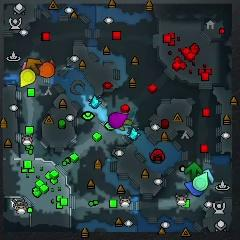p1: (184, 181, 204, 197)
p2: (192, 173, 208, 191)
p3: (109, 112, 127, 128)
p4: (20, 68, 36, 87)
p5: (39, 62, 56, 78)
x1: (21, 60, 27, 70)
x2: (120, 119, 133, 130)
x3: (202, 169, 214, 185)
x4: (184, 161, 203, 180)
x5: (25, 58, 40, 75)
